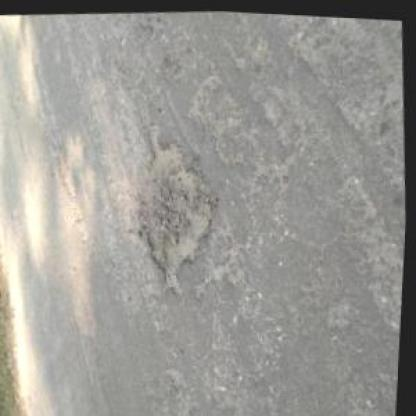pothole: (126, 115, 228, 300)
